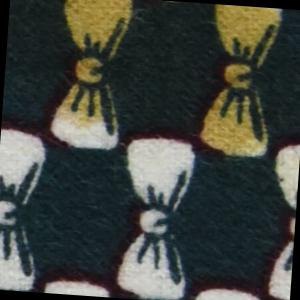Stain: (1, 1, 284, 167)
